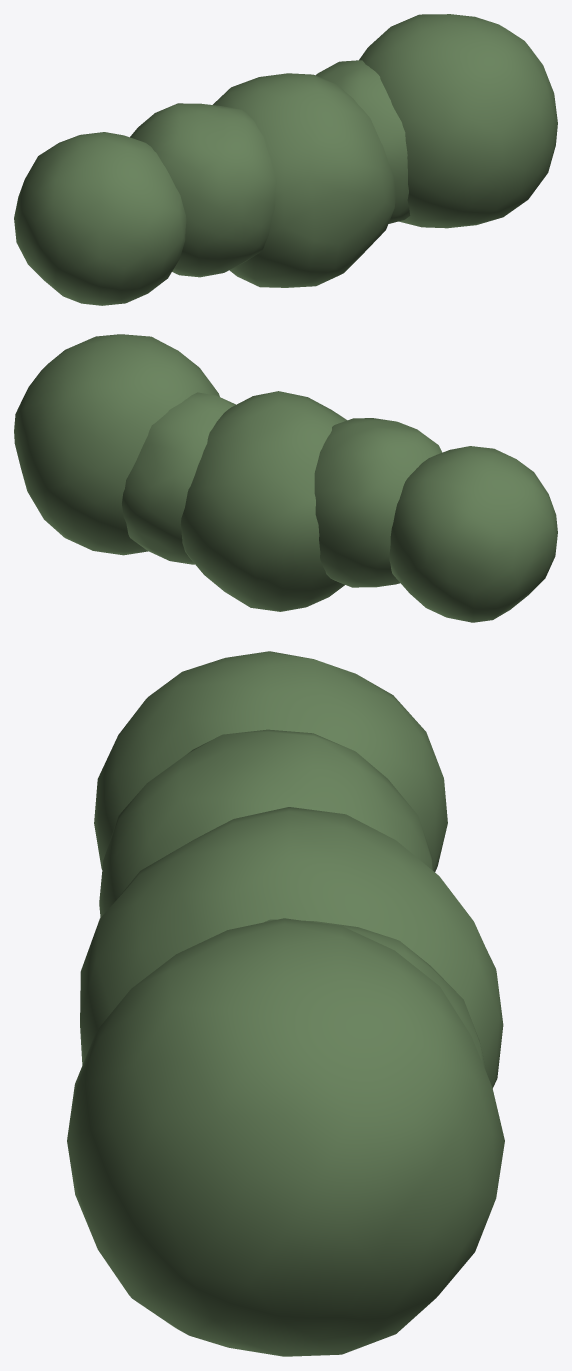
File: NPR_07_1501__MOD__VegetationElements__Hedges__ClippedHedge__Var-01__.glb
3 views of the same model, one above another, from view 1: azimuth 30°, elevation 25°; view 2: azimuth 150°, elevation 25°; view 3: azimuth 270°, elevation 25° (orthographic). The views are drawn at different scales.
Parts seen in each view (by area): view 1: NPR_07_1501__MOD__VegetationElements__Hedges__ClippedHedge__; view 2: NPR_07_1501__MOD__VegetationElements__Hedges__ClippedHedge__; view 3: NPR_07_1501__MOD__VegetationElements__Hedges__ClippedHedge__.
Part boxes in pixels (x1,y1,x2,y2): NPR_07_1501__MOD__VegetationElements__Hedges__ClippedHedge__: [14, 14, 557, 305]; NPR_07_1501__MOD__VegetationElements__Hedges__ClippedHedge__: [14, 334, 557, 622]; NPR_07_1501__MOD__VegetationElements__Hedges__ClippedHedge__: [67, 651, 504, 1356].
Size of the model in its own units: 4.23 by 1.68 by 1.56.
